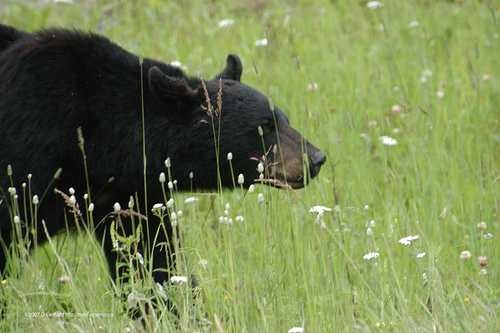bear: (201, 70, 329, 198)
